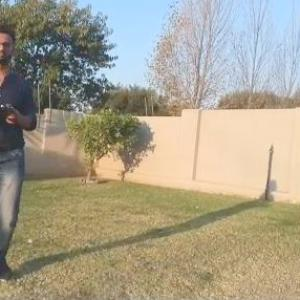follow: (0, 22, 41, 293)
